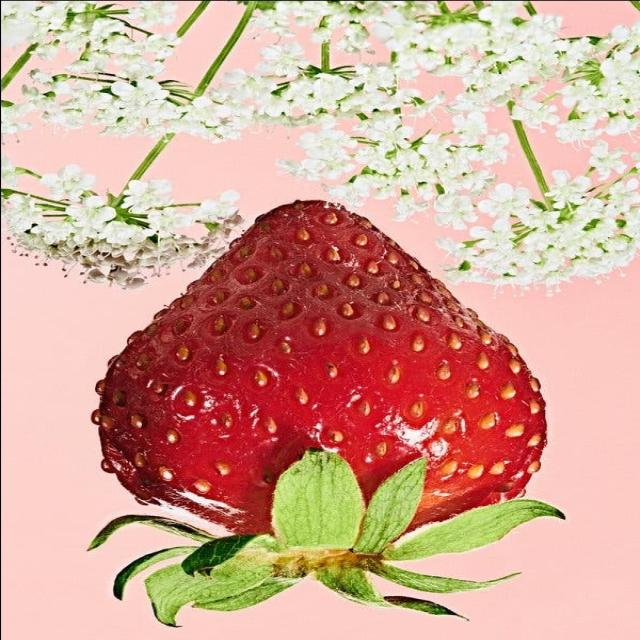strawberry: (91, 170, 560, 640)
